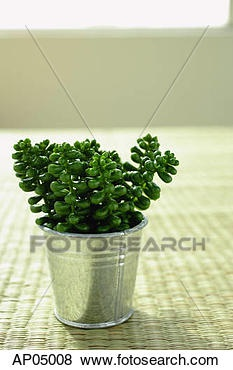flowerpot: (34, 210, 149, 330)
